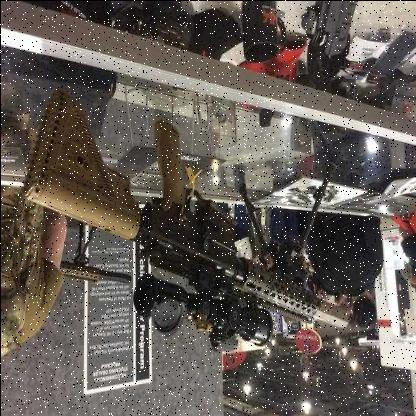rifle: (19, 76, 361, 363)
